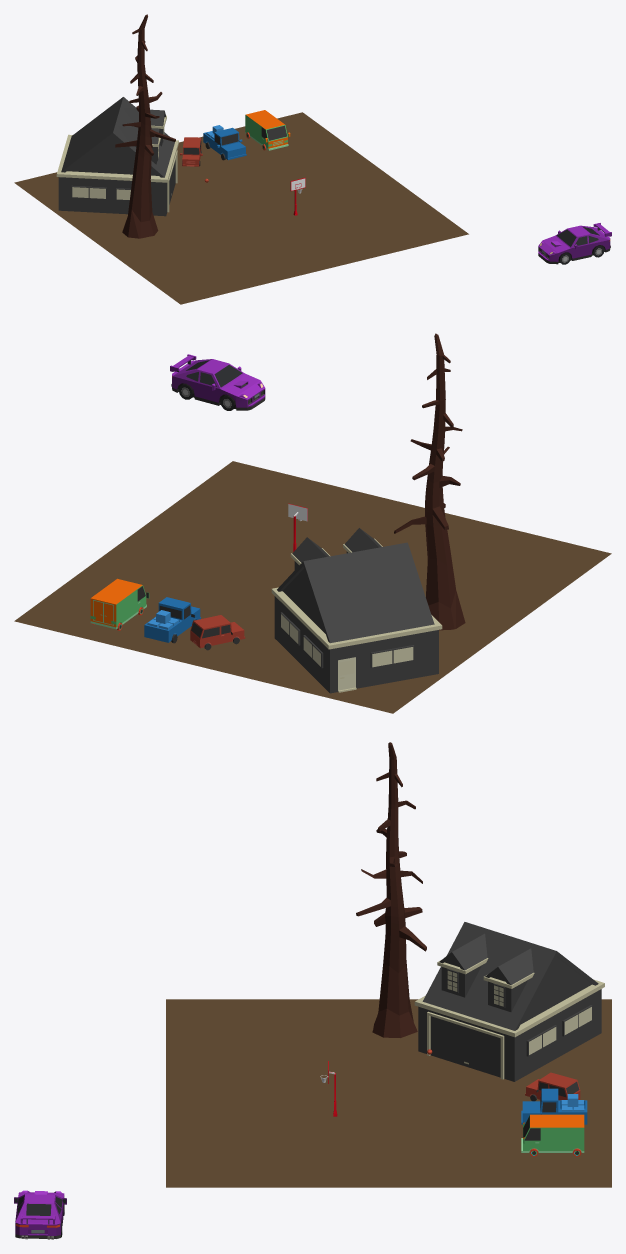
Rendered from playground.glb.
3 views of the same model, one above another, from view 1: azimuth 30°, elevation 25°; view 2: azimuth 150°, elevation 25°; view 3: azimuth 270°, elevation 25° (orthographic). The views are drawn at different scales.
Parts seen in each view (by area): view 1: Plane, Building_Garage_01, Cylinder.004, SR_Veh_StreetCar_Purple, ST_Veh_Van_Green_Z, ST_Veh_Ute_Blue_Z, ST_Veh_Car_Red_Z; view 2: Plane, Building_Garage_01, Cylinder.004, SR_Veh_StreetCar_Purple, ST_Veh_Van_Green_Z, ST_Veh_Ute_Blue_Z, ST_Veh_Car_Red_Z; view 3: Plane, Building_Garage_01, Cylinder.004, ST_Veh_Van_Green_Z, SR_Veh_StreetCar_Purple, ST_Veh_Ute_Blue_Z, ST_Veh_Car_Red_Z.
Boxes of the visible parts, x1,y1,x2,y2 form: Plane: (14, 112, 468, 304); Building_Garage_01: (56, 97, 178, 216); Cylinder.004: (115, 14, 175, 238); SR_Veh_StreetCar_Purple: (538, 223, 611, 264); ST_Veh_Van_Green_Z: (245, 110, 290, 150); ST_Veh_Ute_Blue_Z: (203, 125, 246, 160); ST_Veh_Car_Red_Z: (180, 137, 202, 166); Plane: (14, 461, 611, 713); Building_Garage_01: (271, 528, 442, 693); Cylinder.004: (394, 333, 465, 630); SR_Veh_StreetCar_Purple: (170, 354, 265, 410); ST_Veh_Van_Green_Z: (90, 578, 149, 629); ST_Veh_Ute_Blue_Z: (144, 597, 200, 642); ST_Veh_Car_Red_Z: (190, 615, 245, 648); Plane: (166, 999, 611, 1187); Building_Garage_01: (414, 922, 604, 1081); Cylinder.004: (356, 742, 426, 1037); ST_Veh_Van_Green_Z: (521, 1114, 584, 1152); SR_Veh_StreetCar_Purple: (14, 1190, 66, 1239); ST_Veh_Ute_Blue_Z: (521, 1088, 587, 1124); ST_Veh_Car_Red_Z: (525, 1072, 580, 1100).
Size of what is drawn, in the model's own units: 46.99 by 27.5 by 48.11.
Materials: 11 (9 with a texture image).
